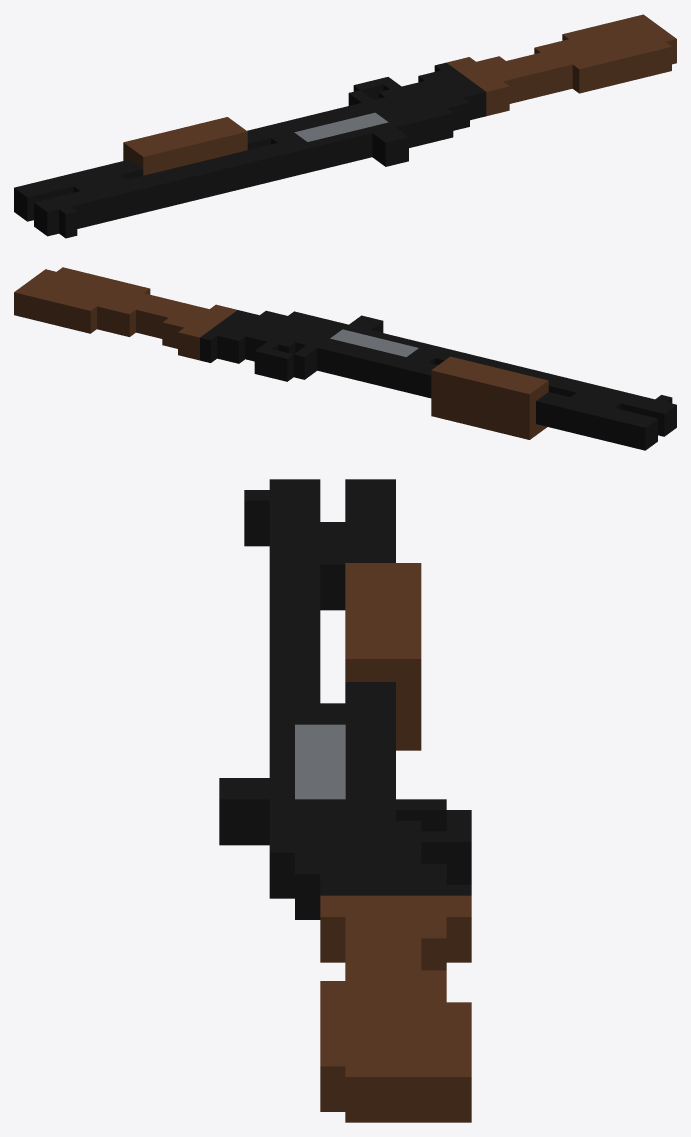
File: gun 1.obj
3 renders of one model, top to bottom at view 1: azimuth 30°, elevation 25°; view 2: azimuth 150°, elevation 25°; view 3: azimuth 270°, elevation 25°, orthographic. The views are drawn at different scales.
Bounding box in the file's own units: 5.6 × 0.4 × 1.
1 material, 1 textured.
